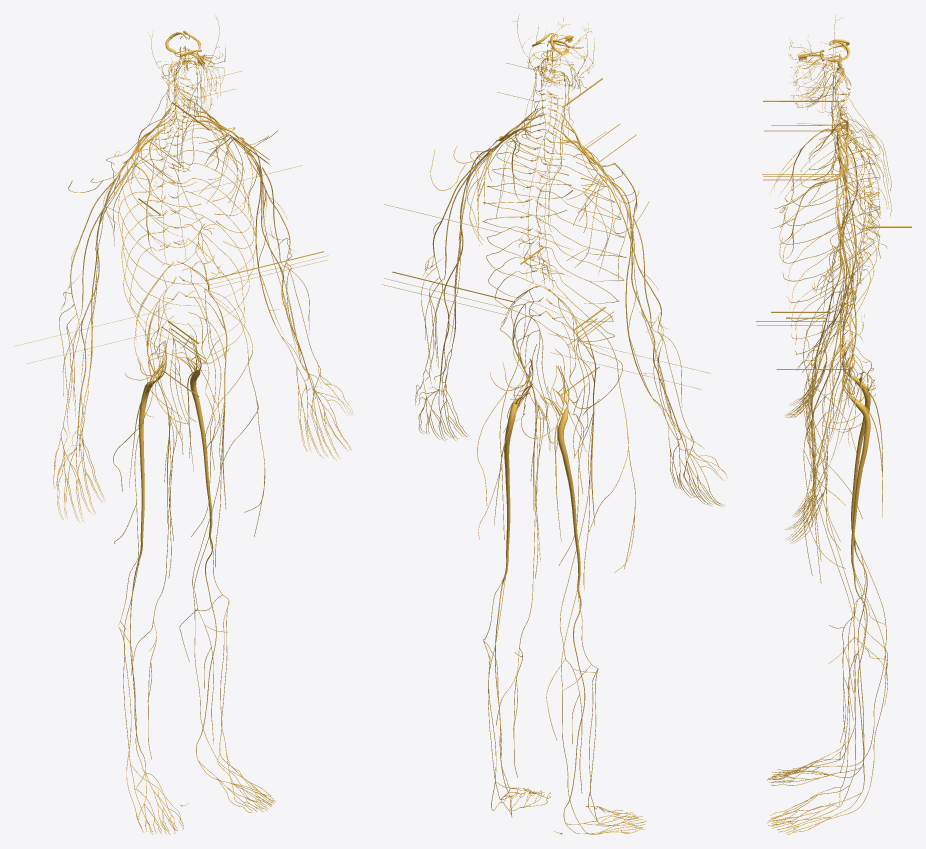
The model's file is zanatomy_peripheral_nerves.glb.
The picture shows the model from 3 angles, left to right: view 1: azimuth 30°, elevation 25°; view 2: azimuth 150°, elevation 25°; view 3: azimuth 270°, elevation 25°; orthographic projection. The views are drawn at different scales.
Visible parts, largest first — view 1: Intercostal nerves.r, Intercostal nerves.l, Sciatic nerve.r, Sciatic nerve.l; view 2: Intercostal nerves.l, Intercostal nerves.r, Sciatic nerve.r, Sciatic nerve.l; view 3: Intercostal nerves.l, Intercostal nerves.r, Sciatic nerve.l, Sciatic nerve.r, Saphenous nerve.l, Lateral femoral cutaneous nerve.l, Median nerve.l, Saphenous nerve.r, Vagus nerve (X).r, Ulnar nerve.l, Femoral nerve.l, Lateral femoral cutaneous nerve.r (+4 smaller).
Boxes of the visible parts, x1,y1,x2,y2 form: Intercostal nerves.r: [118, 126, 204, 358]; Intercostal nerves.l: [175, 121, 256, 355]; Sciatic nerve.r: [138, 341, 165, 551]; Sciatic nerve.l: [180, 335, 212, 534]; Intercostal nerves.l: [482, 134, 573, 337]; Intercostal nerves.r: [541, 142, 626, 341]; Sciatic nerve.r: [544, 366, 580, 586]; Sciatic nerve.l: [504, 359, 531, 569]; Intercostal nerves.l: [779, 140, 880, 354]; Intercostal nerves.r: [779, 128, 880, 344]; Sciatic nerve.l: [842, 356, 870, 571]; Sciatic nerve.r: [842, 343, 870, 537]; Saphenous nerve.l: [809, 421, 887, 772]; Lateral femoral cutaneous nerve.l: [803, 315, 862, 575]; Median nerve.l: [816, 182, 847, 472]; Saphenous nerve.r: [809, 393, 887, 742]; Vagus nerve (X).r: [812, 67, 857, 296]; Ulnar nerve.l: [823, 175, 856, 445]; Femoral nerve.l: [811, 296, 848, 526]; Lateral femoral cutaneous nerve.r: [803, 291, 862, 517].
Size of the model in its own units: 0.635 by 1.51 by 0.2733.
